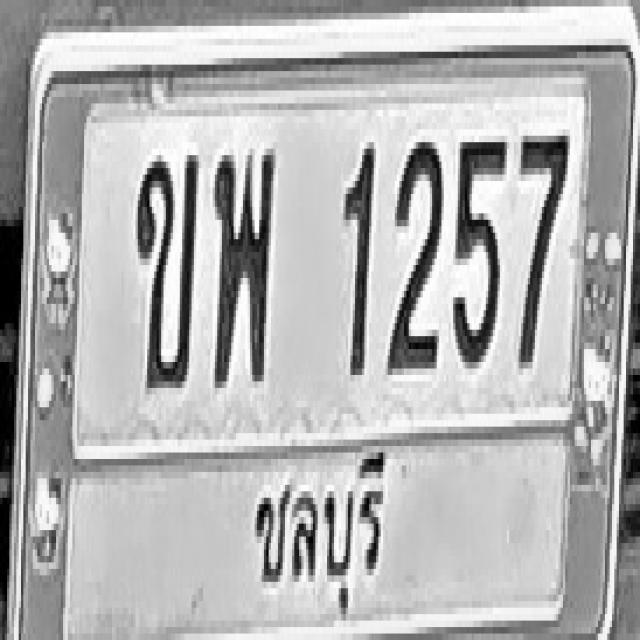1: (343, 142, 374, 375)
11KhorKhai: (136, 149, 198, 388)
2: (388, 136, 441, 368)
39PhorPan: (214, 146, 274, 384)
5: (452, 133, 506, 365)
7: (517, 126, 569, 365)
Chonburi: (246, 440, 391, 620)
